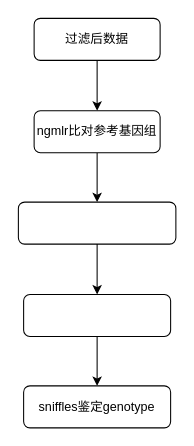
Image size: 194x446. Some labels were removed from this diagram. The shapes that lost their labels are listed below. From the top down, each one's centre as x and y in pixels, then its label:
the point at 96,222: sniffles检测结构变异 (SV)
the point at 97,315: SURVIVOR合并SV
